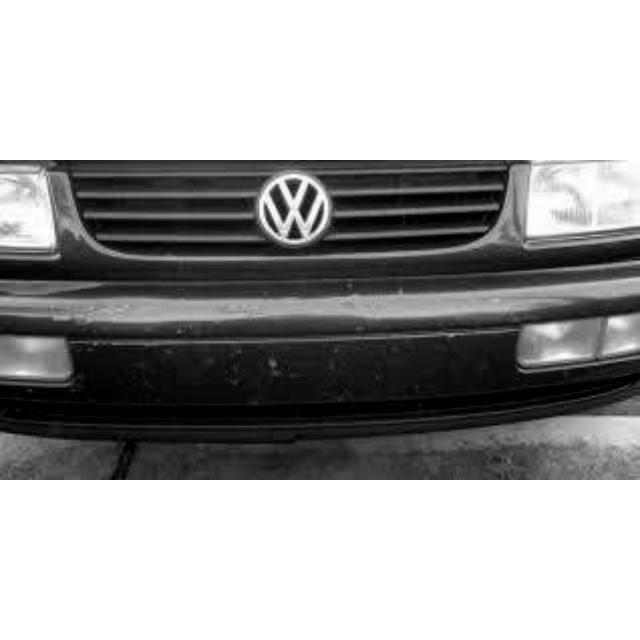front-bumper-dent: (1, 243, 638, 462)
